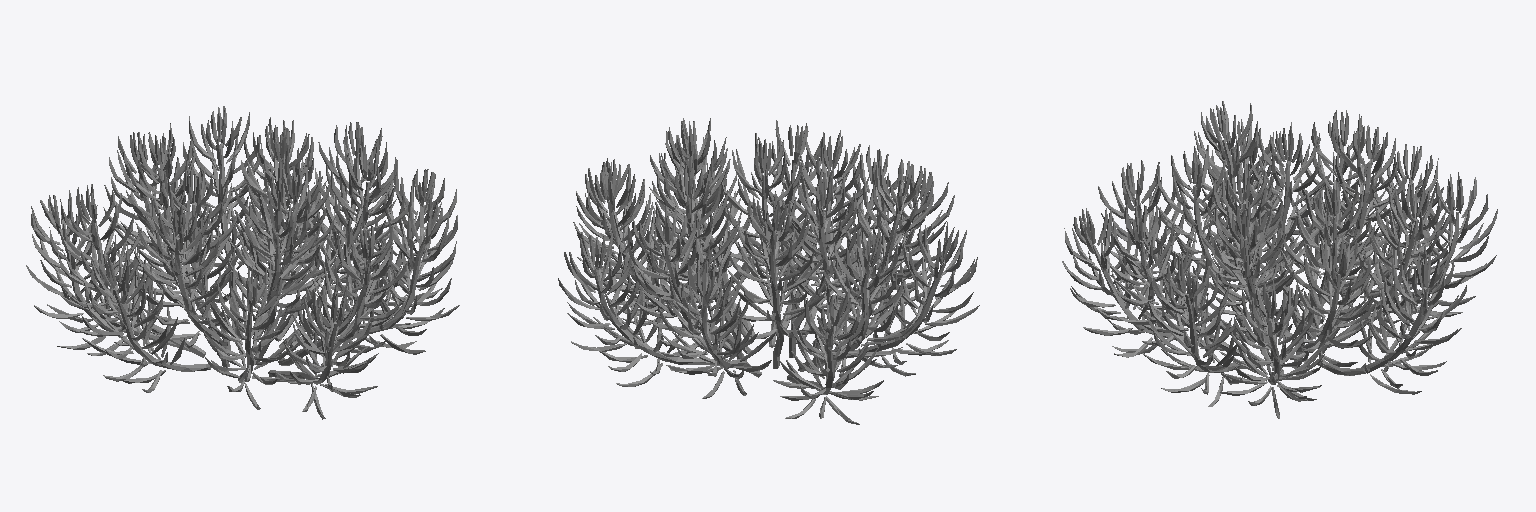
The model's file is senecio_2.obj.
3 renders of one model, left to right at view 1: azimuth 30°, elevation 25°; view 2: azimuth 150°, elevation 25°; view 3: azimuth 270°, elevation 25°, orthographic.
Visible parts, largest first — view 1: Senecio_m__A002; view 2: Senecio_m__A002; view 3: Senecio_m__A002.
Part boxes in pixels (bbox=[...]): Senecio_m__A002: bbox=[26, 106, 459, 419]; Senecio_m__A002: bbox=[558, 118, 979, 424]; Senecio_m__A002: bbox=[1062, 101, 1497, 418].
Size of the model in its own units: 5.17 by 2.67 by 5.13.